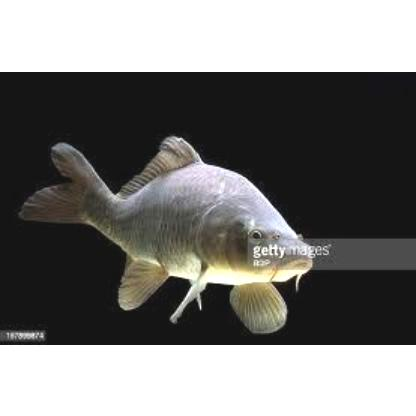ikan-mas: (27, 134, 319, 310)
